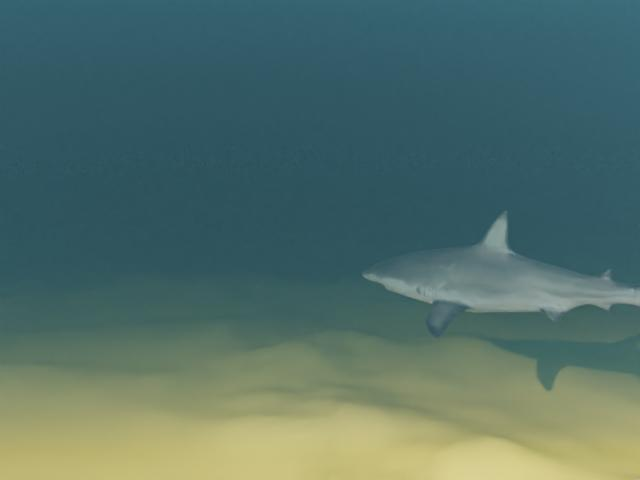Carribean Shark.001: (362, 210, 640, 341)
